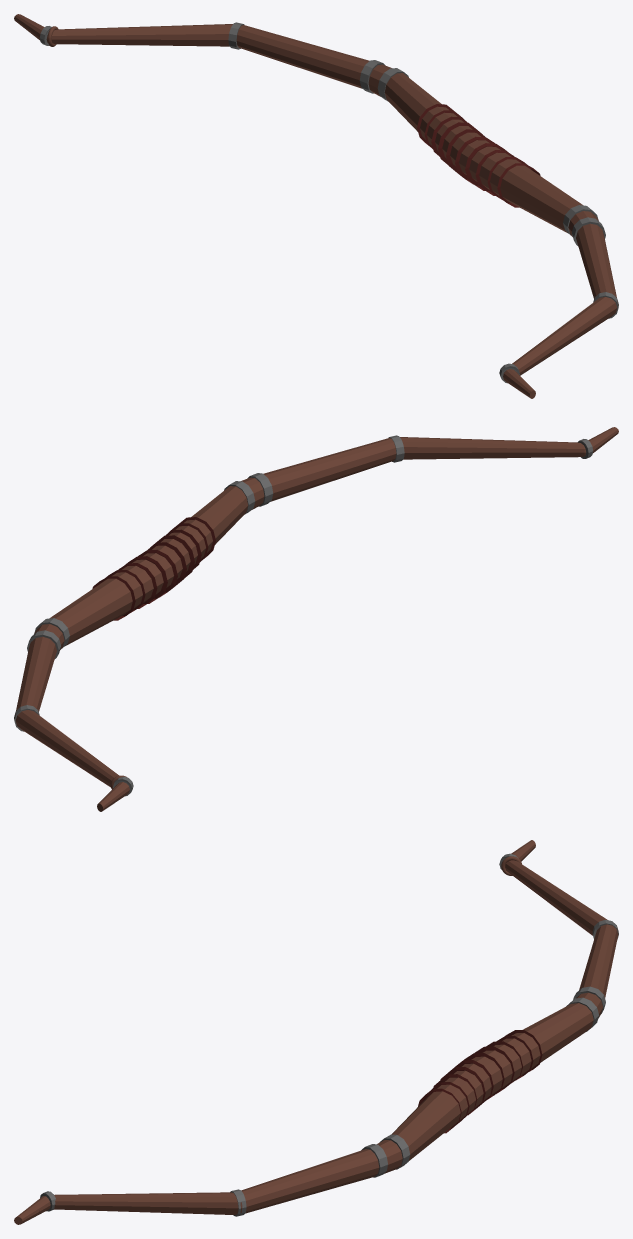
File: bow2.fbx
3 views of the same model, one above another, from view 1: azimuth 30°, elevation 25°; view 2: azimuth 150°, elevation 25°; view 3: azimuth 330°, elevation 25° (orthographic).
Visible parts, largest first — view 1: Cylinder.001; view 2: Cylinder.001; view 3: Cylinder.001.
Boxes of the visible parts, x1,y1,x2,y2 form: Cylinder.001: [14, 14, 618, 398]; Cylinder.001: [14, 427, 618, 811]; Cylinder.001: [14, 840, 618, 1224].
Size of the model in its own units: 759 by 134 by 2918.
